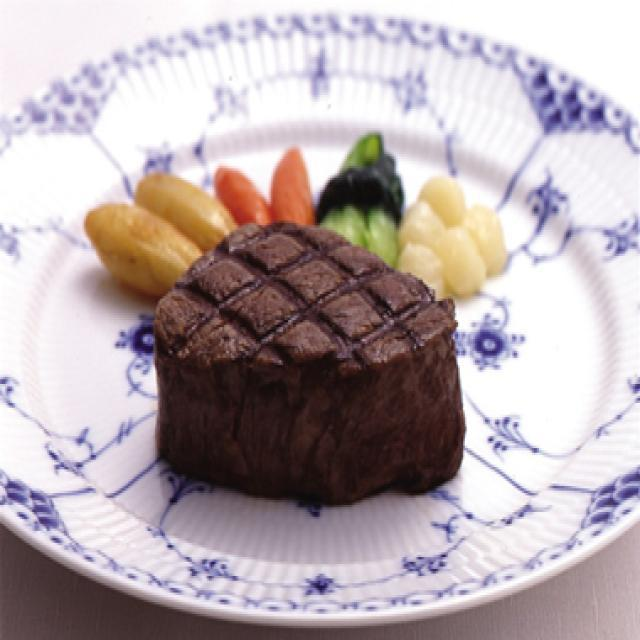Beef Steak: (148, 212, 470, 506)
